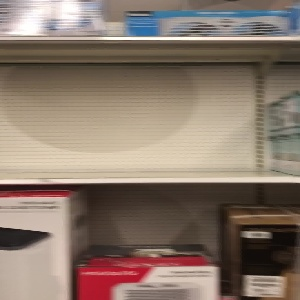void: (1, 46, 272, 182)
